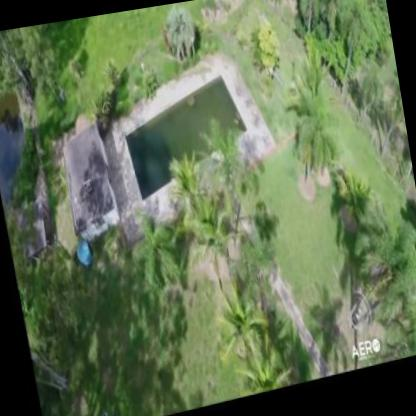agua: (132, 86, 231, 197)
